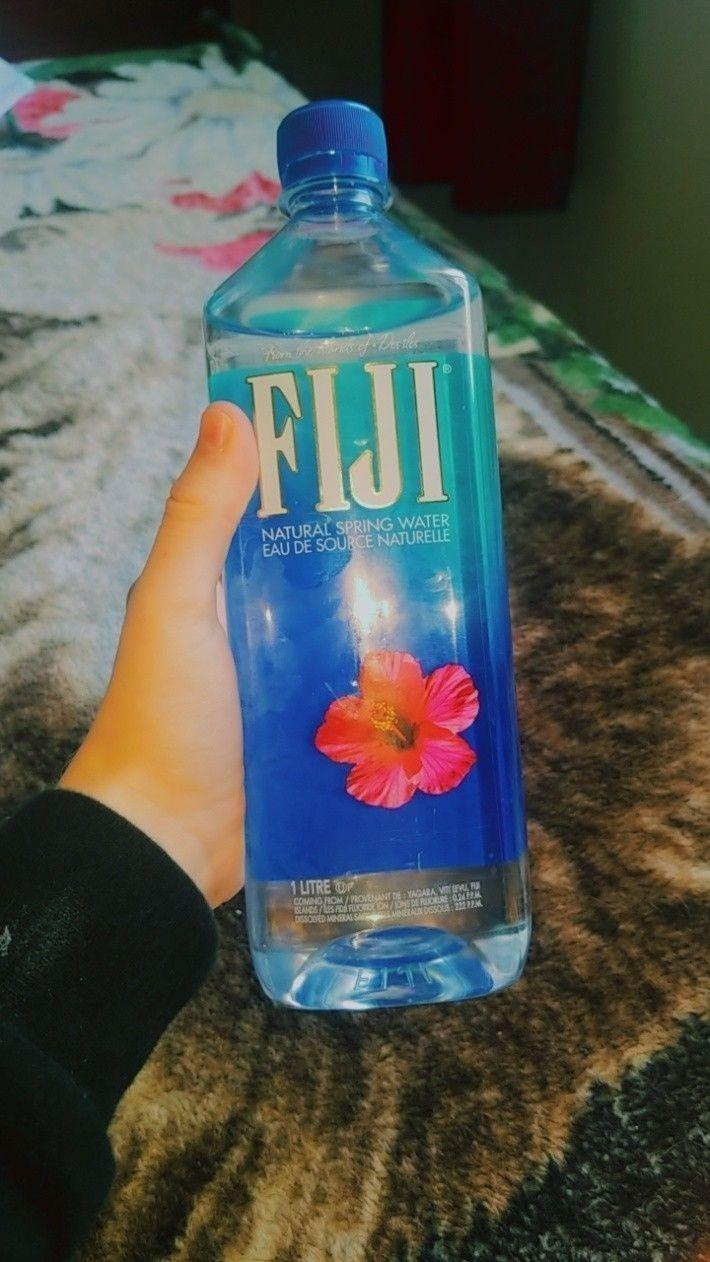bottle-plastic: (203, 96, 534, 1015)
